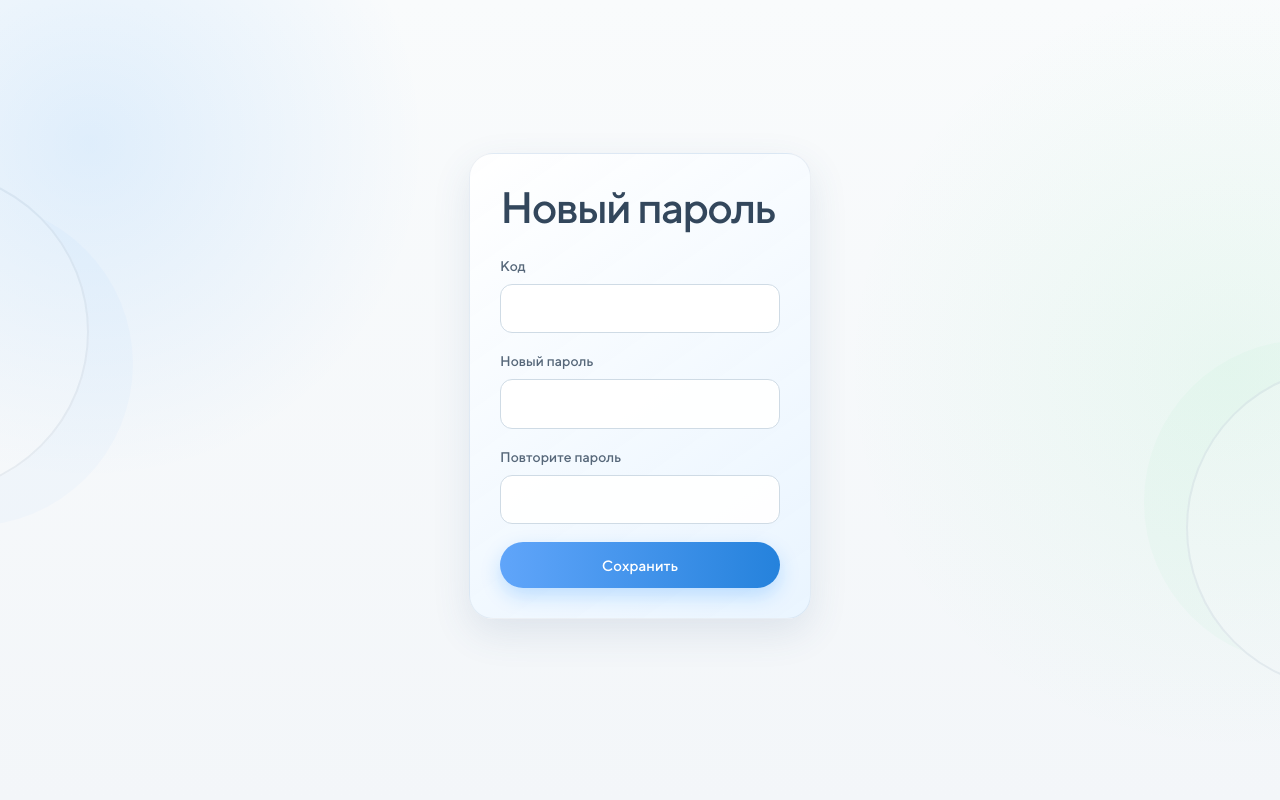
password reset › shows the backend error for a wrong code
Type "000000" into the field labelled "Код". click: [640, 308]
box: [500,284,780,333]
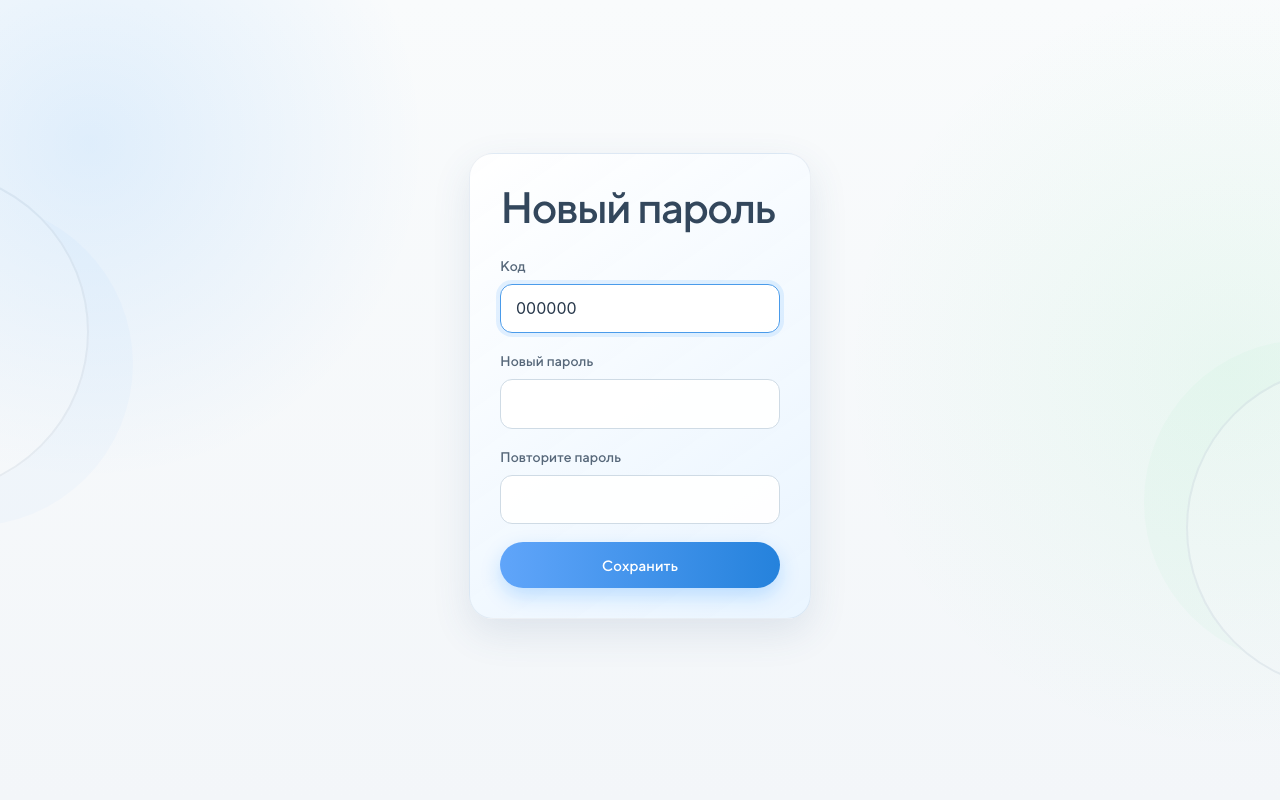
Type "newpass1" into the password field labelled "Новый пароль". click: [640, 404]
box: [500,379,780,429]
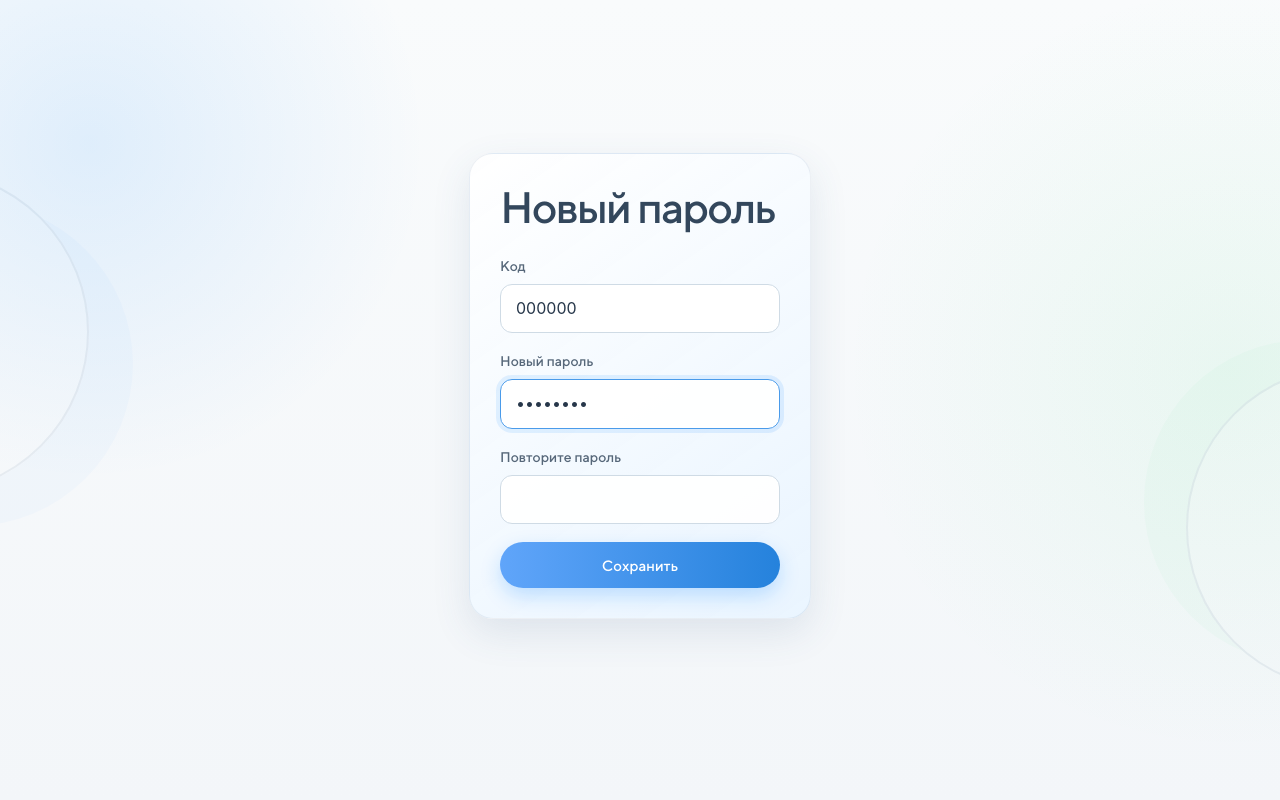
Type "newpass1" into the password field labelled "Повторите пароль". click: [640, 500]
box: [500,475,780,524]
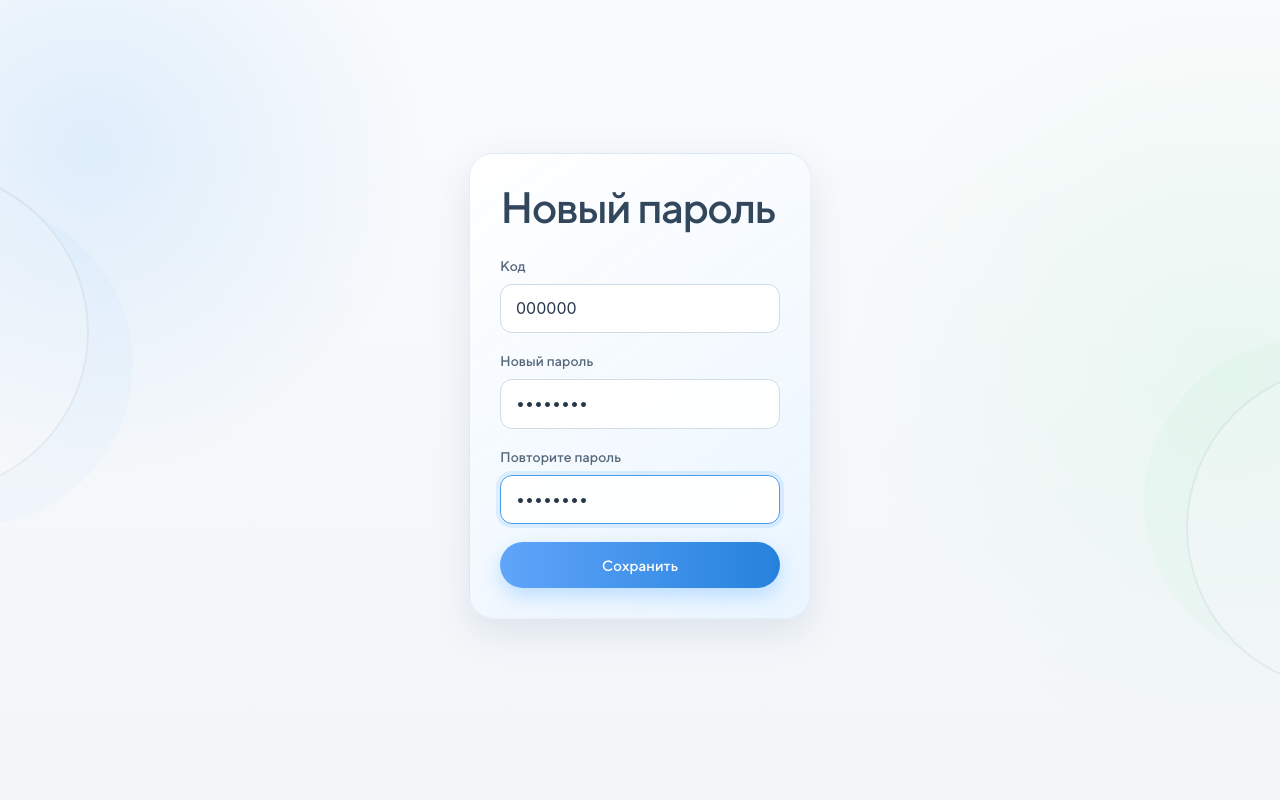
Click the button "Сохранить". click: [640, 565]
box: [500,542,780,588]
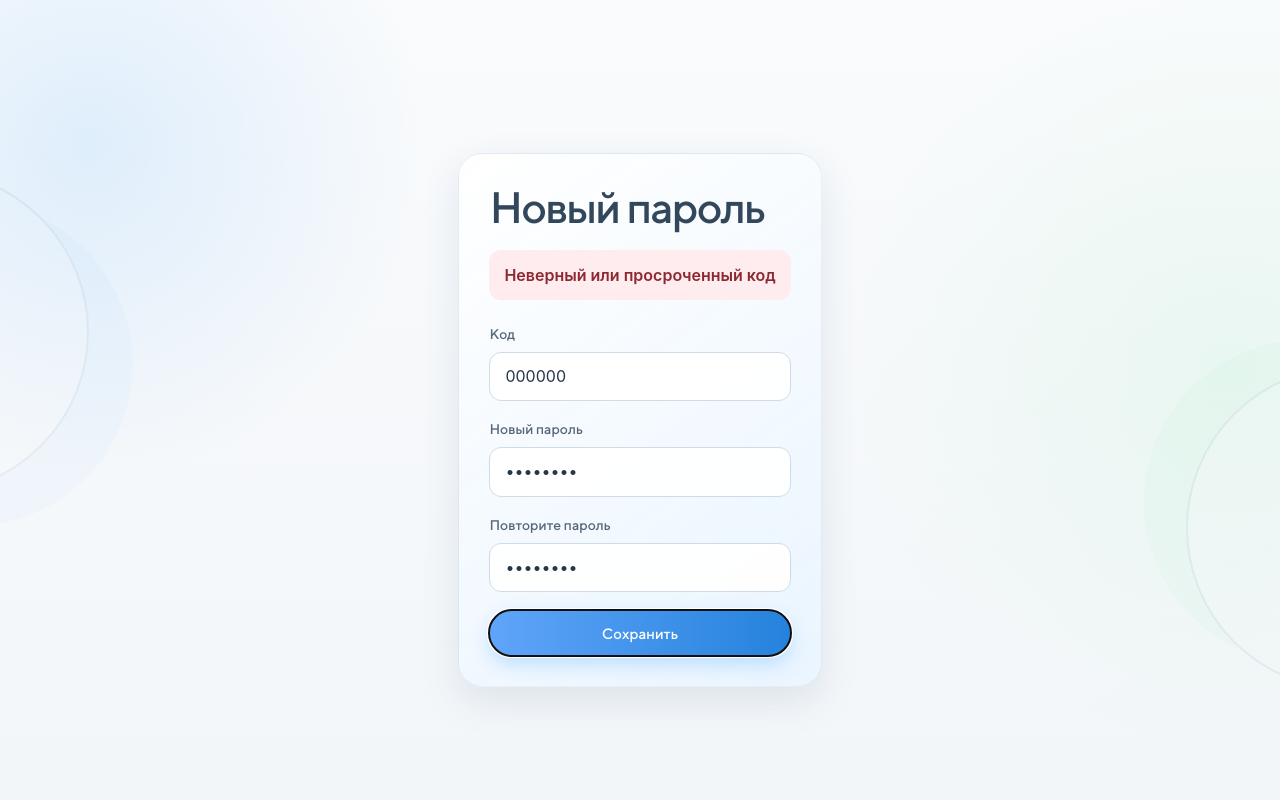
Expected: the message reads "Неверный или просроченный код", [504,264,776,284]
